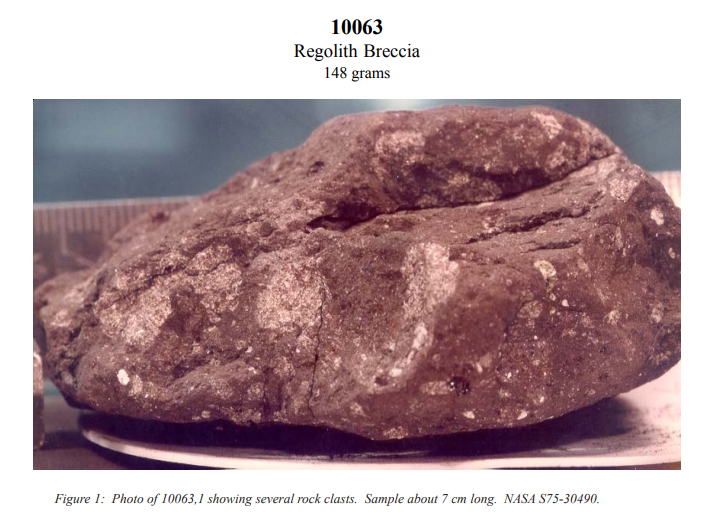Breccia: (36, 106, 679, 462)
